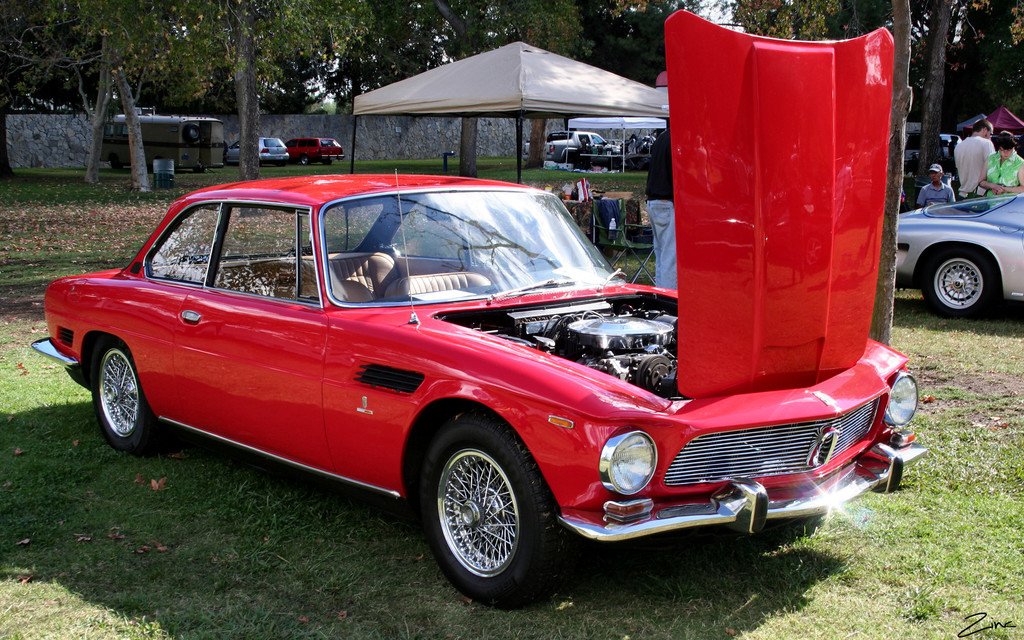mobil: (85, 173, 954, 575)
